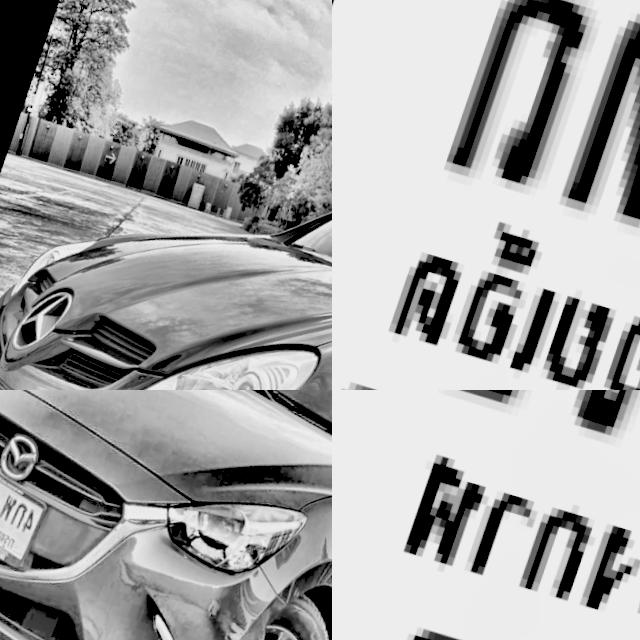license-plate: (332, 0, 640, 390), (332, 390, 640, 640), (0, 452, 69, 571), (0, 341, 44, 390)
